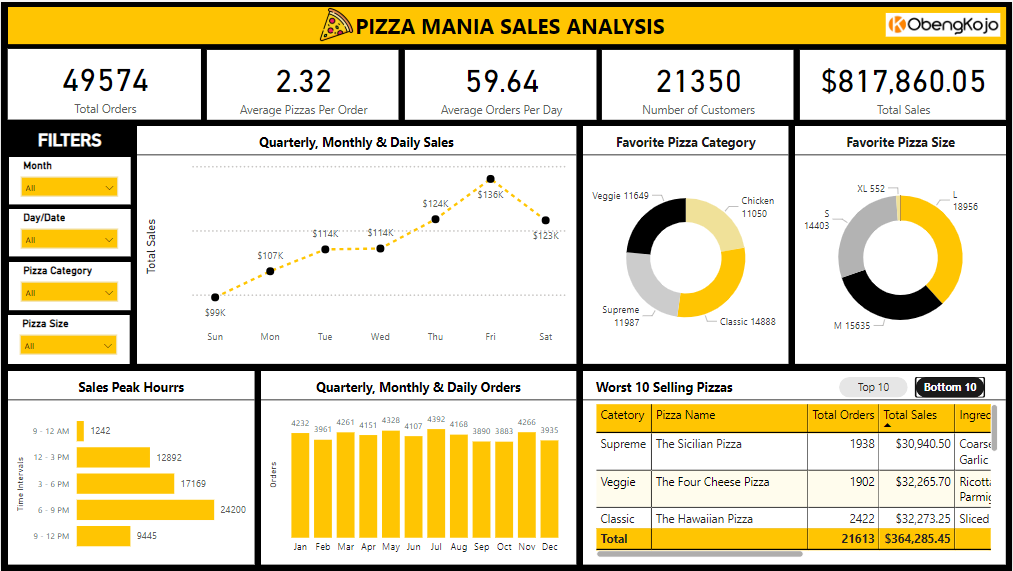

The page's visual inventory and layout, read from the dashboard file:
{"tool":"powerbi","page":{"name":"Home page","canvas":[1280,720],"ordinal":0},"visuals":[{"type":"textbox","box":[11.3,6.1,1260.6,46.8],"z":0},{"type":"tableEx","title":"Best Selling Pizzas","fields":{"Values":["Pizza_Types.Catetory","Pizza_Types.Pizza Name","Measures (2).Total Orders","Measures (2).Total Sales","Pizza_Types.Ingredients"]},"box":[736.3,468,532.6,243.6],"z":1000},{"type":"tableEx","title":"Worst Selling Pizzas","fields":{"Values":["Pizza_Types.Catetory","Pizza_Types.Pizza Name","Measures (2).Total Orders","Measures (2).Total Sales"]},"box":[736.3,468,532.6,240.9],"z":2000},{"type":"bookmarkNavigator","box":[1060.6,473.9,185,26.1],"z":3000},{"type":"image","box":[1113.9,9.4,156.1,40],"z":4000},{"type":"lineChart","title":"Quarterly, Monthly & Daily Sales","fields":{"Category":["Date.Quarter","Date.Month","Date.Day"],"Y":["Measures (2).Total Sales"]},"box":[172,157,556,301.2],"z":5000},{"type":"donutChart","title":"Favorite Pizza Category","fields":{"Category":["Pizza_Types.Catetory"],"Y":["Sum(Order_Details.Order Quantity)"]},"box":[736.3,156.9,260.1,301.4],"z":6000},{"type":"card","fields":{"Values":["Measures (2).Average Pizzas Per Order"]},"box":[645.5,60.6,308.3,88.1],"z":7000},{"type":"card","fields":{"Values":["Measures (2).Total Orders"]},"box":[328.6,60,307.1,88.6],"z":8000},{"type":"card","fields":{"Values":["Measures (2).Average Orders Per Day"]},"box":[963,60,308.5,88.5],"z":9000},{"type":"card","fields":{"Values":["Measures (2).Total Sales"]},"box":[11.4,60,308.6,88.6],"z":10000},{"type":"slicer","title":"Sales by Day","fields":{"Values":["Date.Day"]},"box":[9.6,262.3,154.3,60.4],"z":11000},{"type":"slicer","title":"Sales by Day","fields":{"Values":["Date.Month"]},"box":[9.6,193.9,154.3,62],"z":12000},{"type":"slicer","title":"Sales by Day","fields":{"Values":["Pizza_Types.Catetory"]},"box":[9.6,328.9,154.2,60.6],"z":13000},{"type":"slicer","title":"Sales by Day","fields":{"Values":["Pizzas.Pizza Size"]},"box":[9.4,396.1,153.9,62.2],"z":14000},{"type":"textbox","box":[9.5,156.4,153.6,34.1],"z":15000},{"type":"barChart","title":"Sales Peak Hourrs","fields":{"Category":["Orders.Time Intervals"],"Y":["Sum(Orders.Time Interval Sort)"]},"box":[8.3,466.6,312.4,245],"z":16000},{"type":"clusteredColumnChart","title":"Quarterly, Monthly & Daily Orders","fields":{"Category":["Date.Quarter","Date.Month","Date.Day"],"Y":["Sum(Order_Details.Order Quantity)"]},"box":[328.9,466.6,399.1,245],"z":17000},{"type":"donutChart","title":"Favorite Pizza Size","fields":{"Y":["Sum(Order_Details.Order Quantity)"],"Category":["Pizzas.Pizza Size"]},"box":[1004.7,156.9,267,301.4],"z":18000},{"type":"image","box":[440.4,2.8,61.9,52.3],"z":19000}]}

Visuals, with their boxes in screenshot pixels (x1, y1, x2, y2), scaled from the page's 1280x720 canvas onto the 1013x571 screenshot:
textbox: rect(9, 5, 1007, 42)
"Best Selling Pizzas" tableEx: rect(583, 371, 1004, 564)
"Worst Selling Pizzas" tableEx: rect(583, 371, 1004, 562)
bookmarkNavigator: rect(839, 376, 986, 397)
image: rect(882, 7, 1005, 39)
"Quarterly, Monthly & Daily Sales" lineChart: rect(136, 125, 576, 363)
"Favorite Pizza Category" donutChart: rect(583, 124, 789, 363)
card - Measures (2).Average Pizzas Per Order: rect(511, 48, 755, 118)
card - Measures (2).Total Orders: rect(260, 48, 503, 118)
card - Measures (2).Average Orders Per Day: rect(762, 48, 1006, 118)
card - Measures (2).Total Sales: rect(9, 48, 253, 118)
"Sales by Day" slicer: rect(8, 208, 130, 256)
"Sales by Day" slicer: rect(8, 154, 130, 203)
"Sales by Day" slicer: rect(8, 261, 130, 309)
"Sales by Day" slicer: rect(7, 314, 129, 363)
textbox: rect(8, 124, 129, 151)
"Sales Peak Hourrs" barChart: rect(7, 370, 254, 564)
"Quarterly, Monthly & Daily Orders" clusteredColumnChart: rect(260, 370, 576, 564)
"Favorite Pizza Size" donutChart: rect(795, 124, 1006, 363)
image: rect(349, 2, 398, 44)
